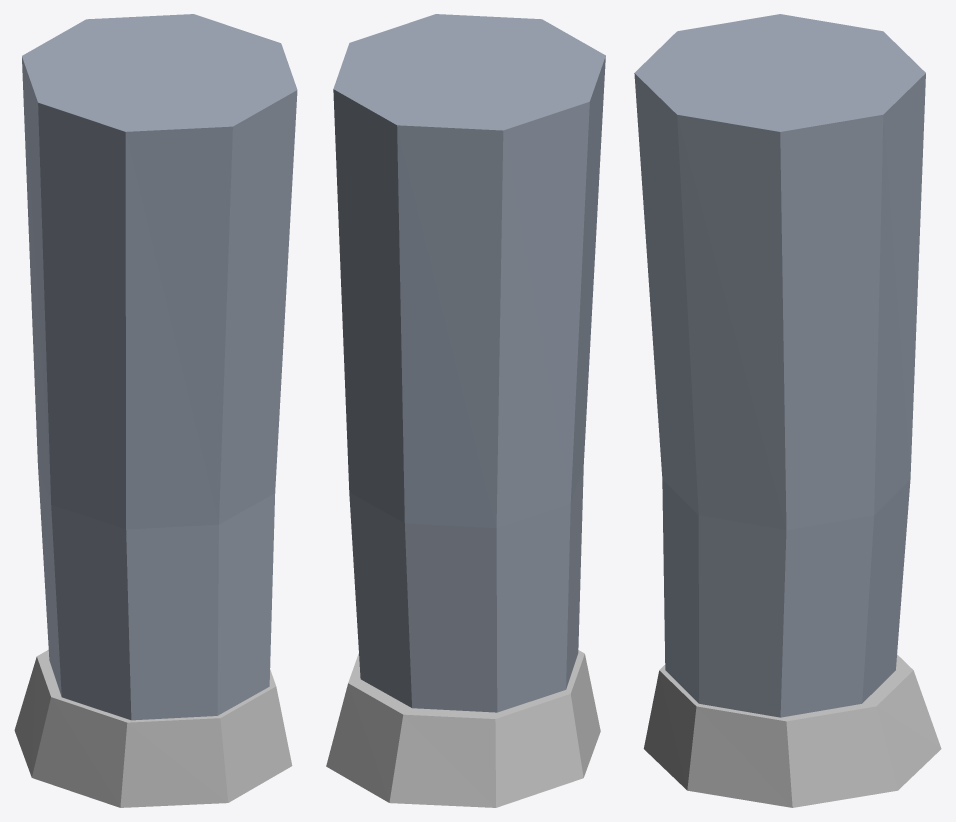
The model's file is animal_alphathrumbo_leg.obj.
3 views of the same model, side by side, from view 1: azimuth 30°, elevation 25°; view 2: azimuth 150°, elevation 25°; view 3: azimuth 270°, elevation 25° (orthographic).
Visible parts, largest first — view 1: animal_alphathrumbo_leg; view 2: animal_alphathrumbo_leg; view 3: animal_alphathrumbo_leg.
Part boxes in pixels (x1,y1,x2,y2): animal_alphathrumbo_leg: [14, 14, 297, 807]; animal_alphathrumbo_leg: [326, 14, 605, 807]; animal_alphathrumbo_leg: [634, 14, 941, 807].
Size of the model in its own units: 0.486 by 1.3 by 0.5346.
